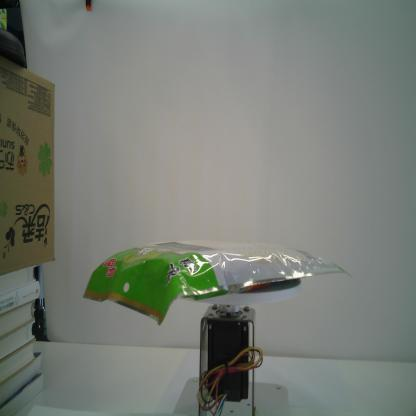Dried Food: (80, 237, 352, 328)
